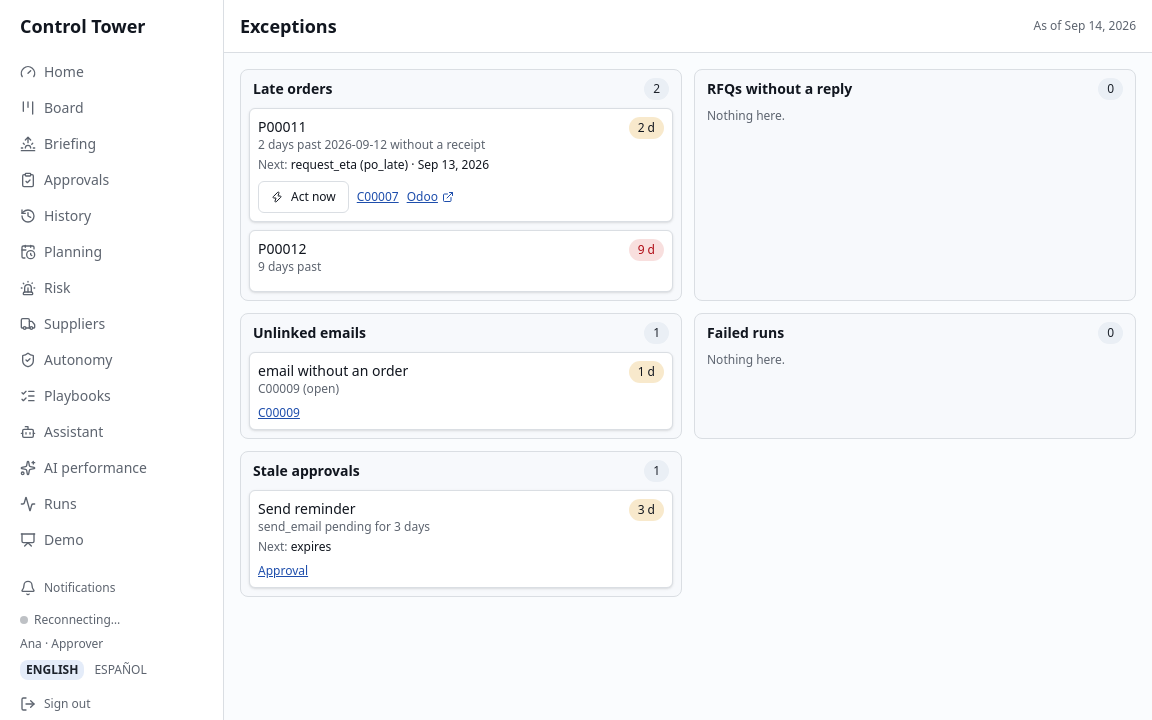
Scenario: exceptions board › groups the columns, shows the next step and acts now
Expected: the text "P00011" is shown, left=258, top=117, right=306, bottom=136
Expected: the element "Failed runs" shows "Nothing here.", left=707, top=351, right=785, bottom=368
Click the button "Act now" at (303, 197), box left=258, top=181, right=349, bottom=213
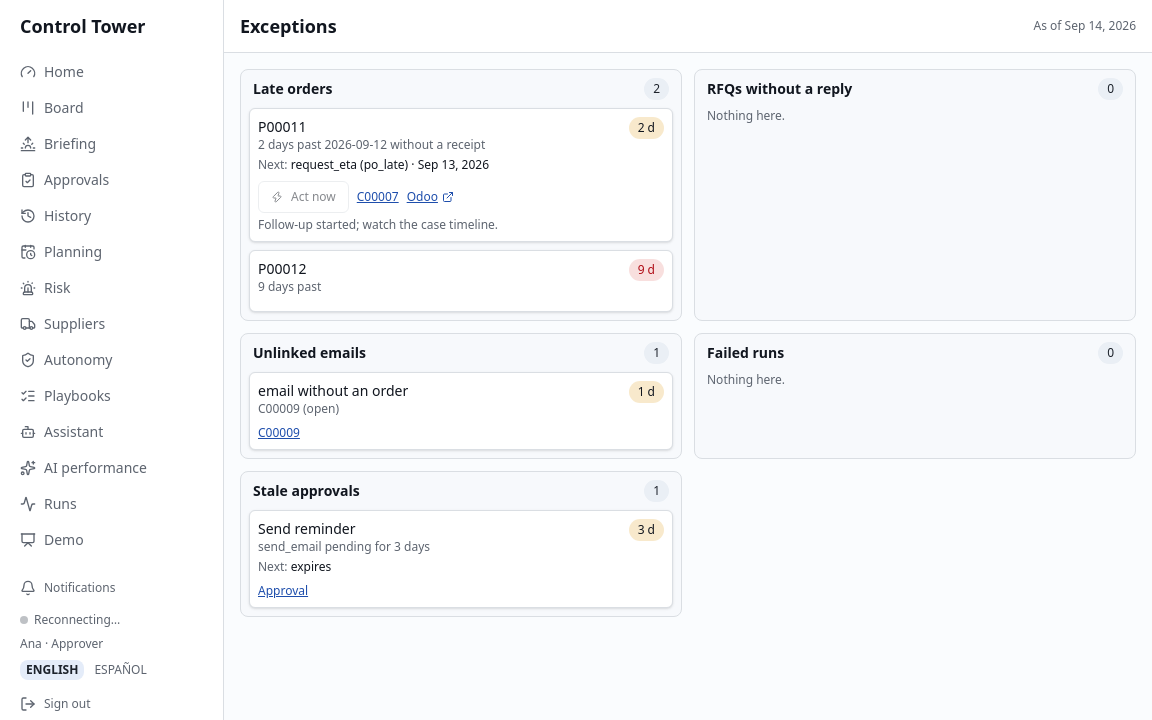
Now the message shows "Follow-up started", box left=258, top=216, right=498, bottom=233
